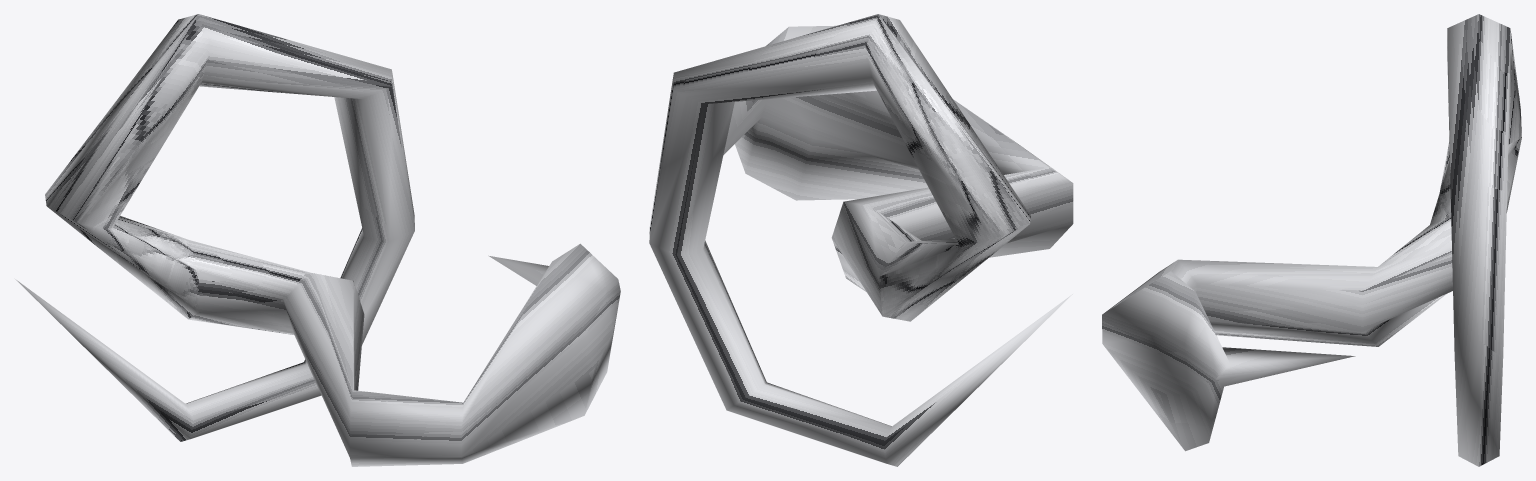
The model's file is snake_000006.obj.
3 renders of one model, left to right at view 1: azimuth 30°, elevation 25°; view 2: azimuth 150°, elevation 25°; view 3: azimuth 270°, elevation 25°, orthographic. The views are drawn at different scales.
Visible parts, largest first — view 1: Cylinder; view 2: Cylinder; view 3: Cylinder.
Boxes of the visible parts, x1,y1,x2,y2 form: Cylinder: [15, 14, 620, 466]; Cylinder: [649, 14, 1073, 466]; Cylinder: [1102, 14, 1521, 466].
Size of the model in its own units: 2.71 by 2.34 by 2.2.
